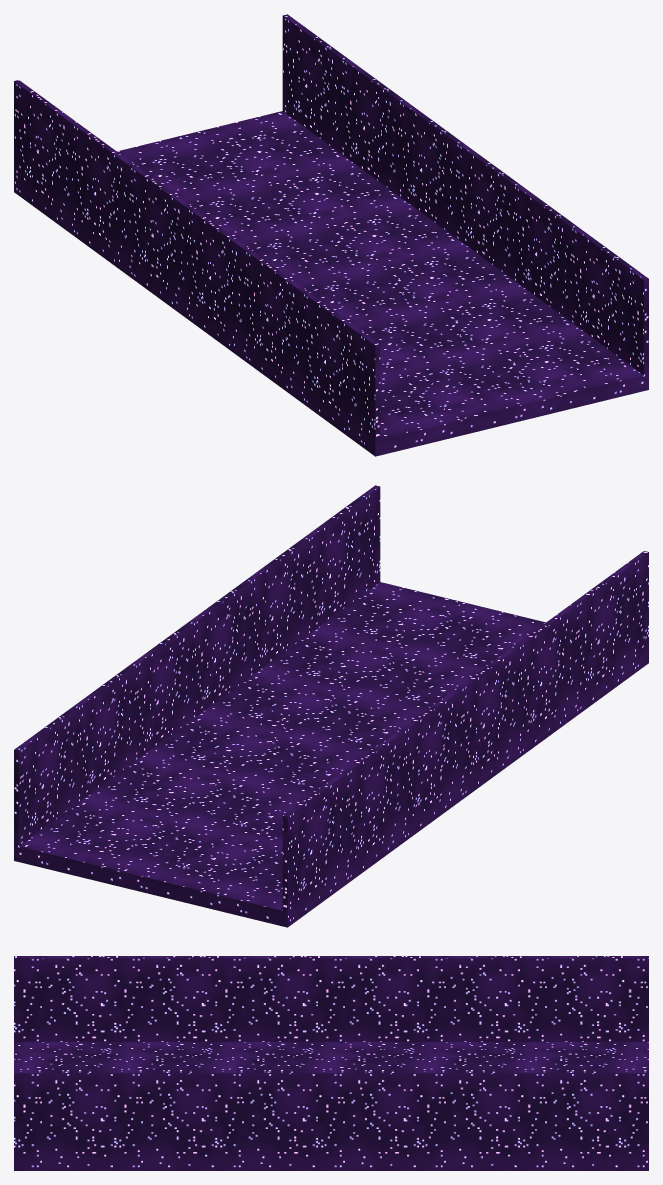
The model's file is climb-skin-6.glb.
3 renders of one model, top to bottom at view 1: azimuth 30°, elevation 25°; view 2: azimuth 150°, elevation 25°; view 3: azimuth 270°, elevation 25°, orthographic. The views are drawn at different scales.
Visible parts, largest first — view 1: climb-skin-6; view 2: climb-skin-6; view 3: climb-skin-6.
Part boxes in pixels (x1,y1,x2,y2): climb-skin-6: (14,14,648,456); climb-skin-6: (14,485,648,927); climb-skin-6: (14,956,648,1170).
Bounding box in the file's own units: 3.3 × 1.28 × 7.55.
1 material, 1 textured.
